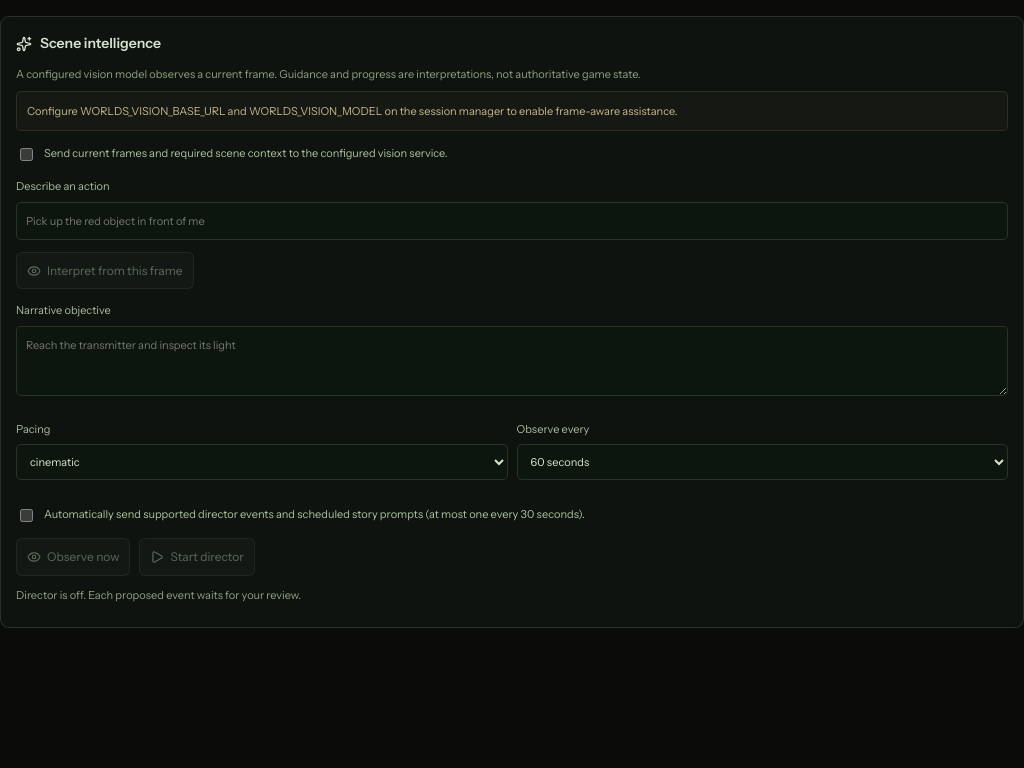
Test: frame-grounded command consent and stale-action protection › never applies a native action absent from the model vocabulary
This screenshot has width=1024, height=768.
Click the checkbox labelled "Send current frames" at (26, 155), box 20,148 -> 33,161
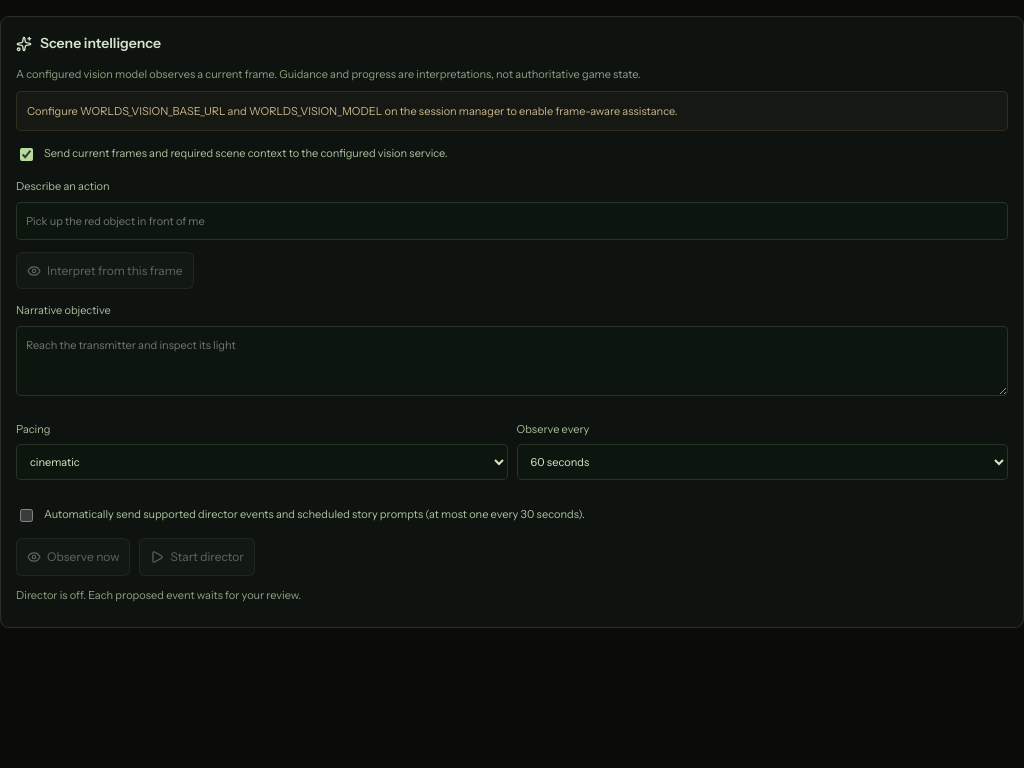
Type "Move forward" into the field labelled "Describe an action" at (512, 221), box 16,202 -> 1008,240
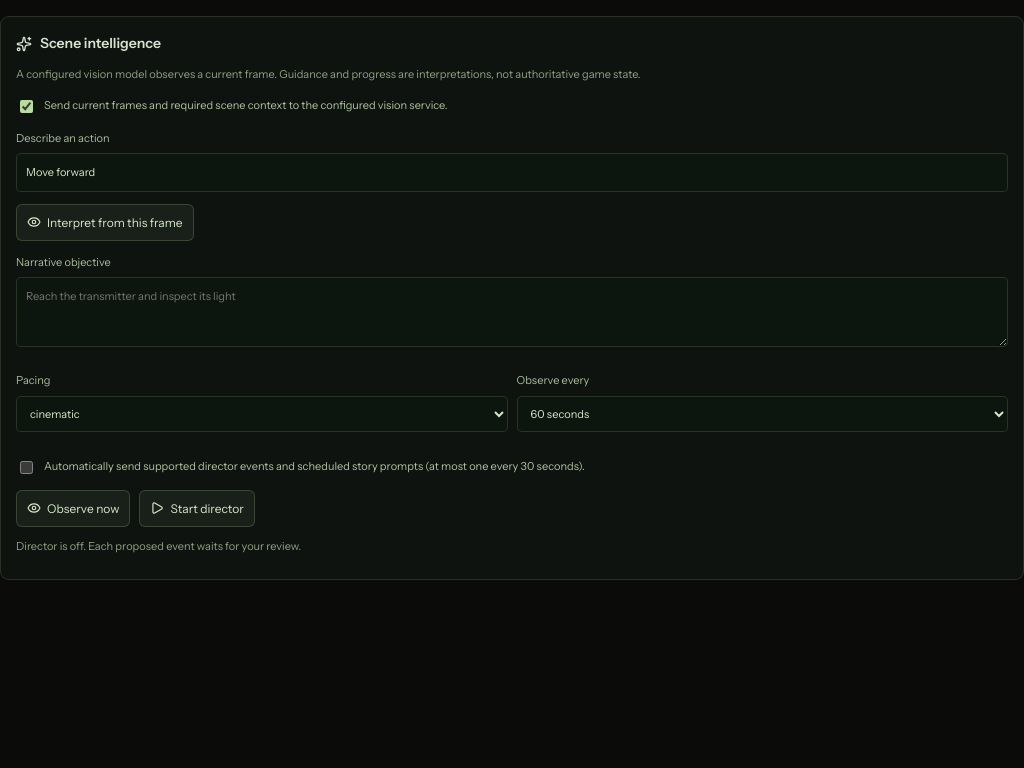
Check: the button "Interpret from this frame" is enabled
Click the button "Interpret from this frame" at (105, 222), box 16,204 -> 194,241
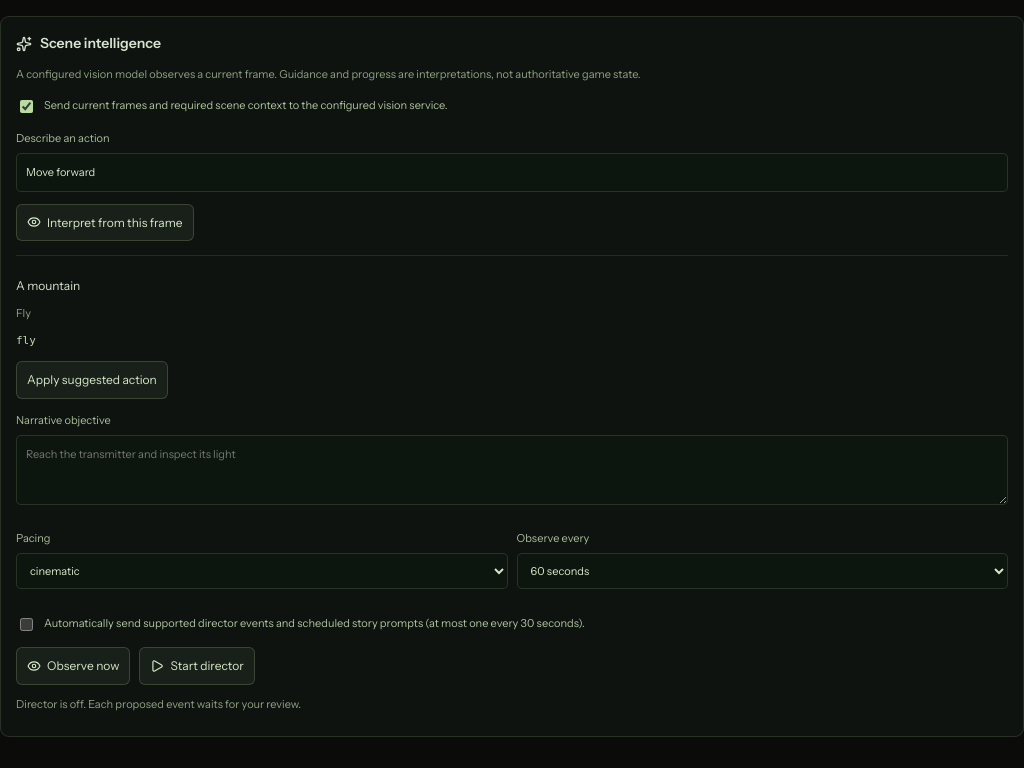
Check: the button "Apply suggested action" is shown
Click the button "Apply suggested action" at (92, 380), box 16,361 -> 168,399
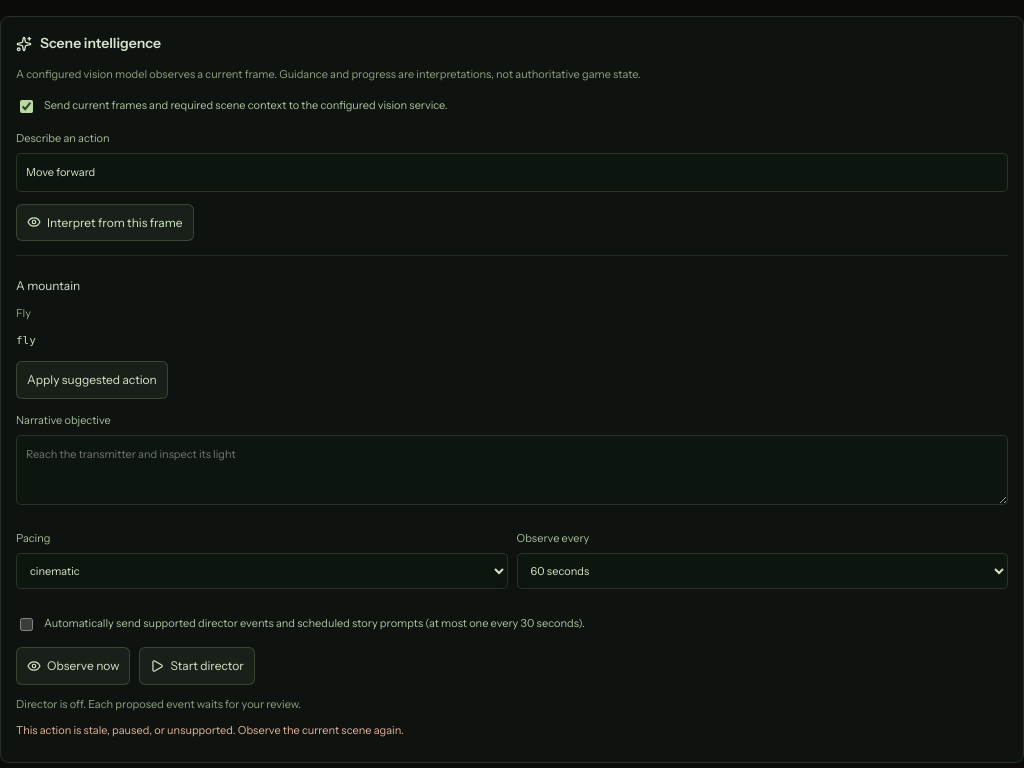
Check: the text "This action is stale, paused, or unsupported. Observe the current scene again." is shown, box 16,723 -> 404,737
